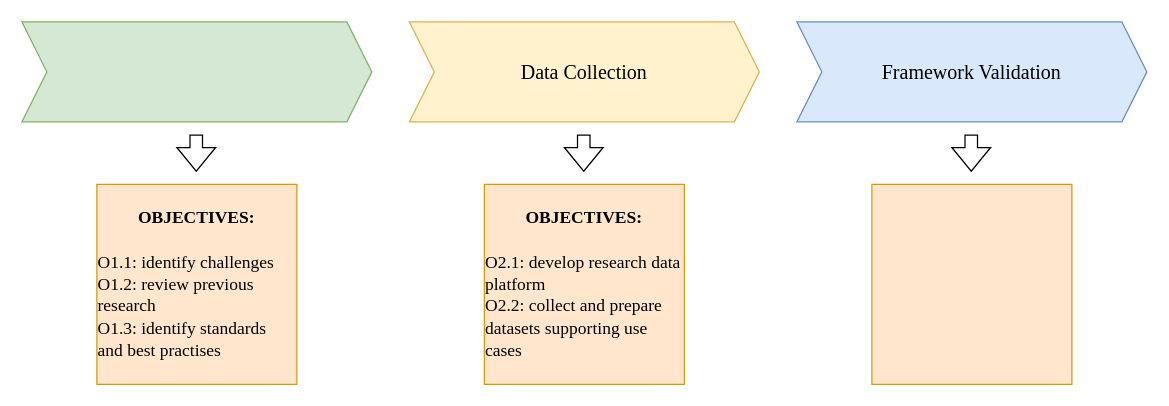
This 1169x406 diagram has some shape labels left out. The shapes that lost their labels are listed below. From the top down, each one's centre as x and y in pixels, then its label:
At [196,71]: "Literature Review".
At [971,283]: "OBJECTIVES: O3.1: validate framework O3.2: Propose implementation".
